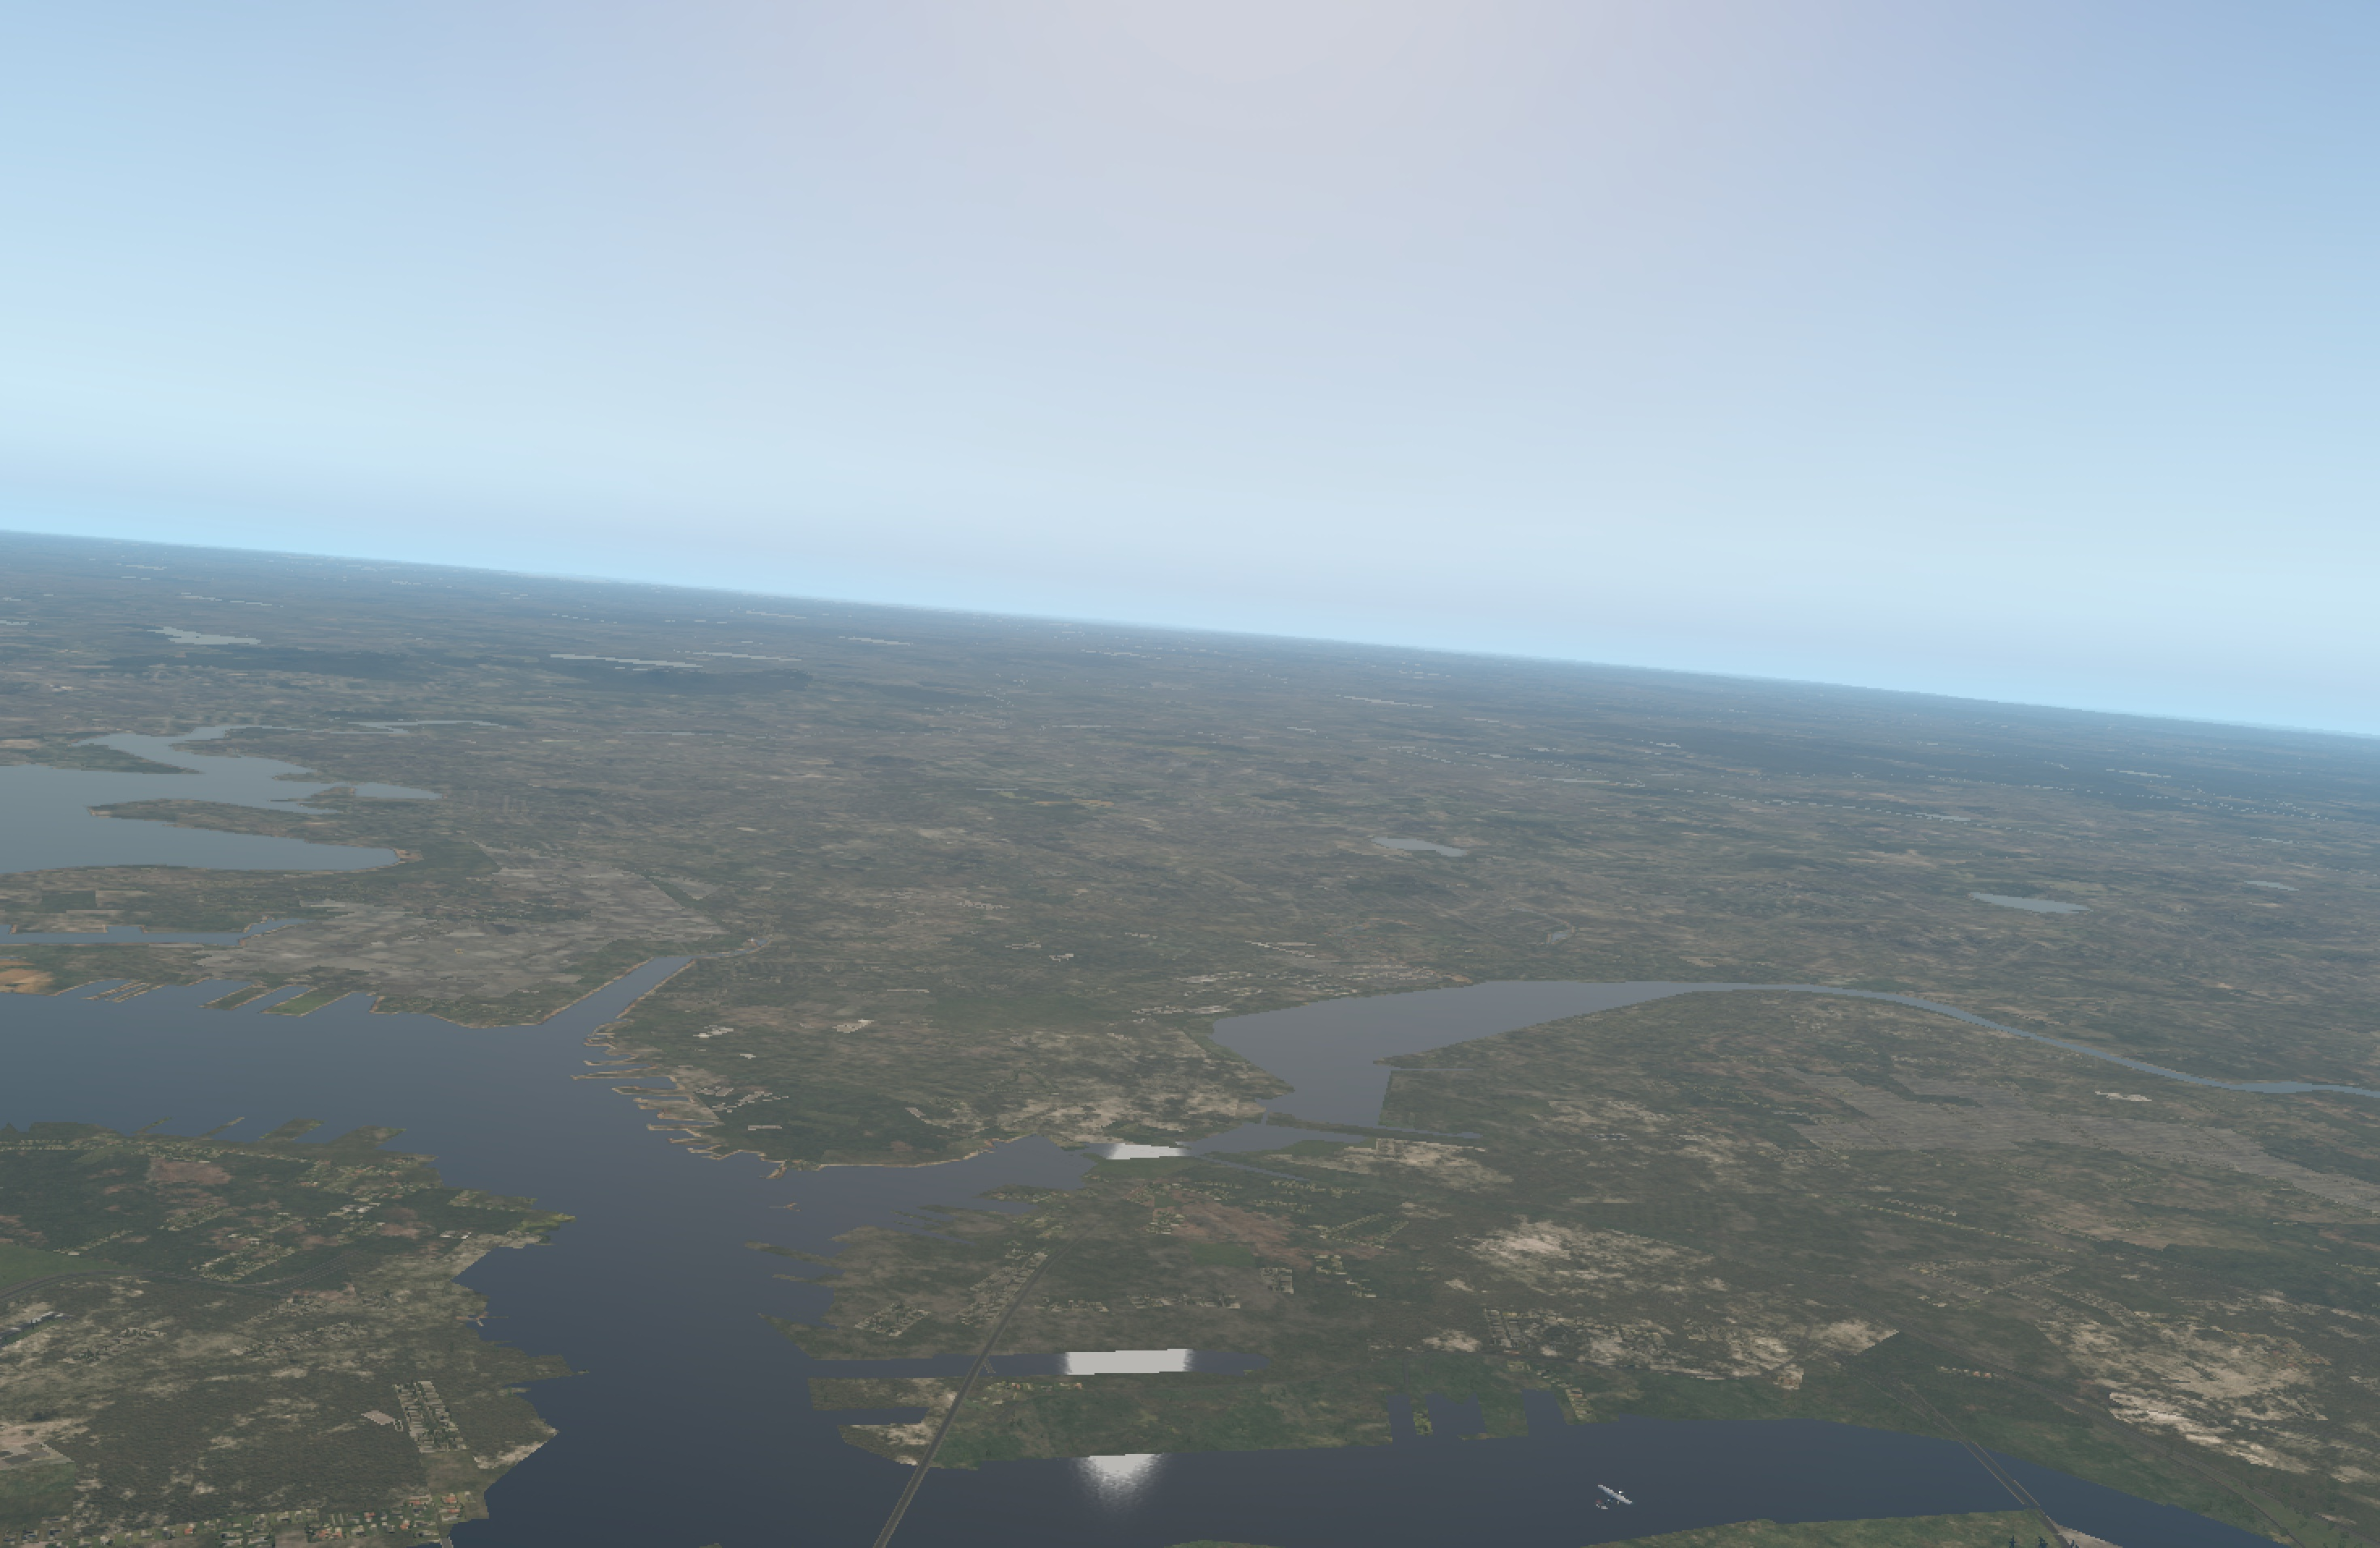aircraft: (1601, 1491, 1632, 1503)
